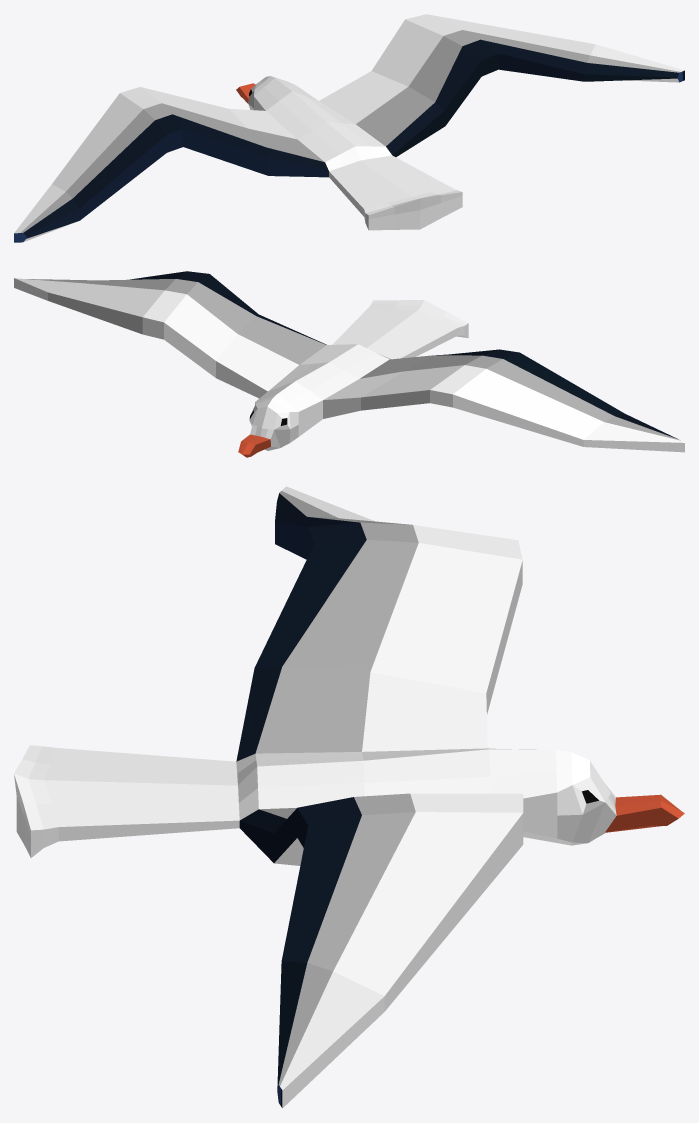
The model's file is Marti.fbx.
3 renders of one model, top to bottom at view 1: azimuth 30°, elevation 25°; view 2: azimuth 150°, elevation 25°; view 3: azimuth 270°, elevation 25°, orthographic. The views are drawn at different scales.
Parts seen in each view (by area): view 1: Marti; view 2: Marti; view 3: Marti.
Part boxes in pixels (left/top/right/bottom): Marti: left=14, top=14, right=684, bottom=242; Marti: left=14, top=271, right=684, bottom=457; Marti: left=14, top=486, right=684, bottom=1108.
Bounding box in the file's own units: 8.04 × 1.06 × 3.77.
1 material, 1 textured.
